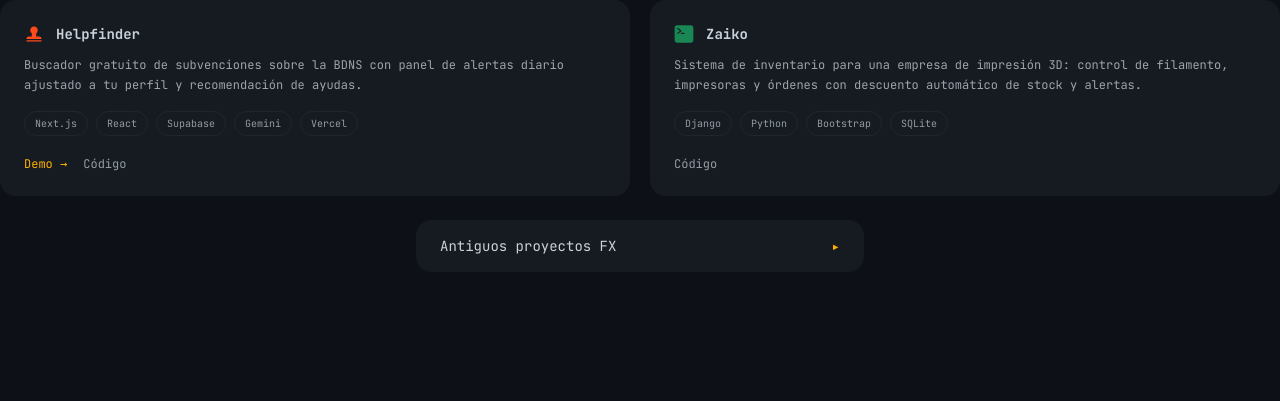
Test: Projects › abre el desplegable y muestra los enlaces FX
Click the button "Antiguos proyectos FX ▸" at [528, 246], box [416,220,864,272]
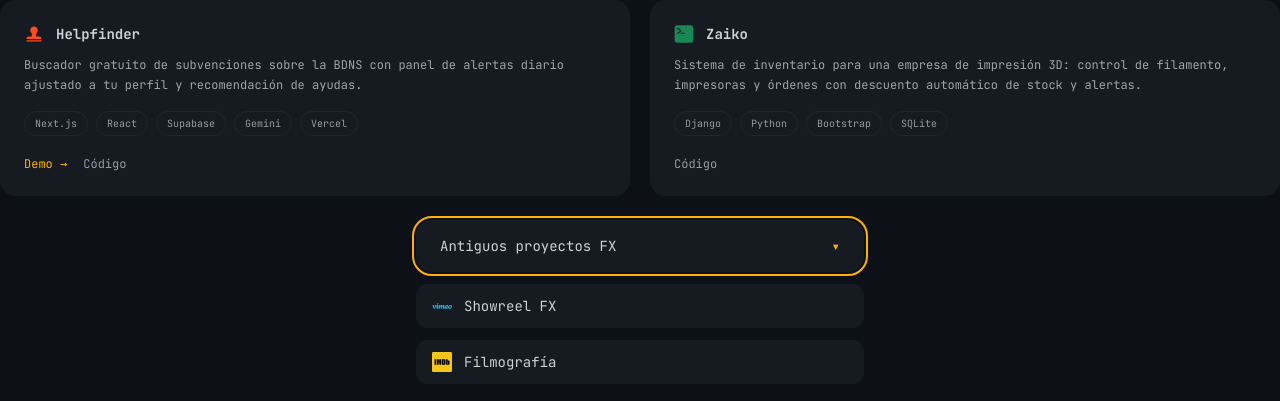
Expected: the button "Antiguos proyectos FX ▾" is expanded, [416,220,864,272]
Expected: the link "Showreel FX" is shown, [416,284,864,328]
Expected: the link "Filmografía" is shown, [416,340,864,384]
